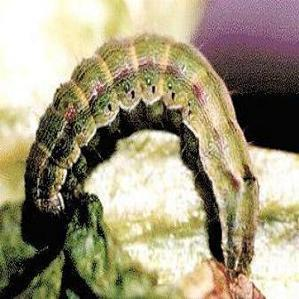Cotton bollworm: (14, 23, 266, 284)
